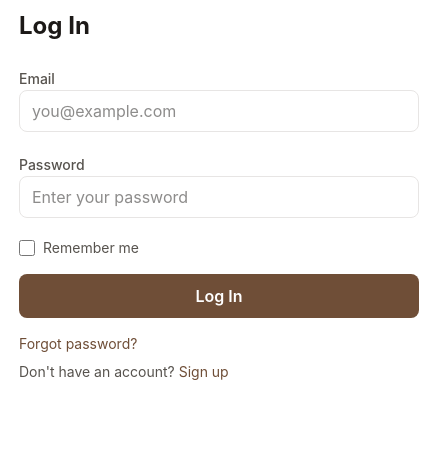
Test: LoginPage › should display error message on login failure
Expected: the button "Log In" is shown, [19,274,419,318]
In the field labelled "Email": (219, 111) [19,90,419,132], type "bad@test.com"
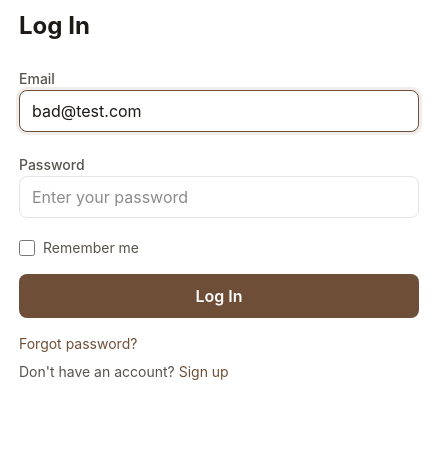
In the password field labelled "Password": (219, 197) [19,176,419,218], type "wrong"
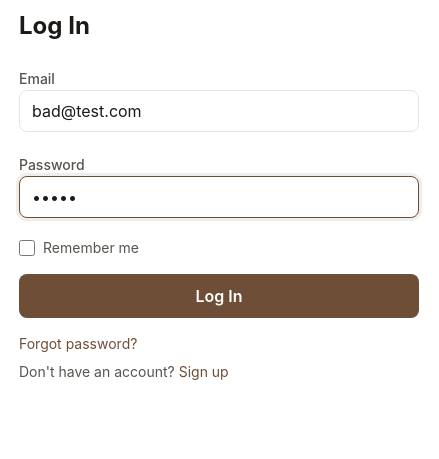
Click the button "Log In": (219, 296) [19,274,419,318]
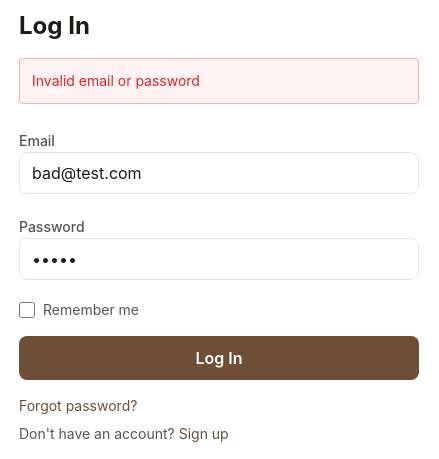
Expected: the text "Invalid email or password" is shown, [19,58,419,104]
